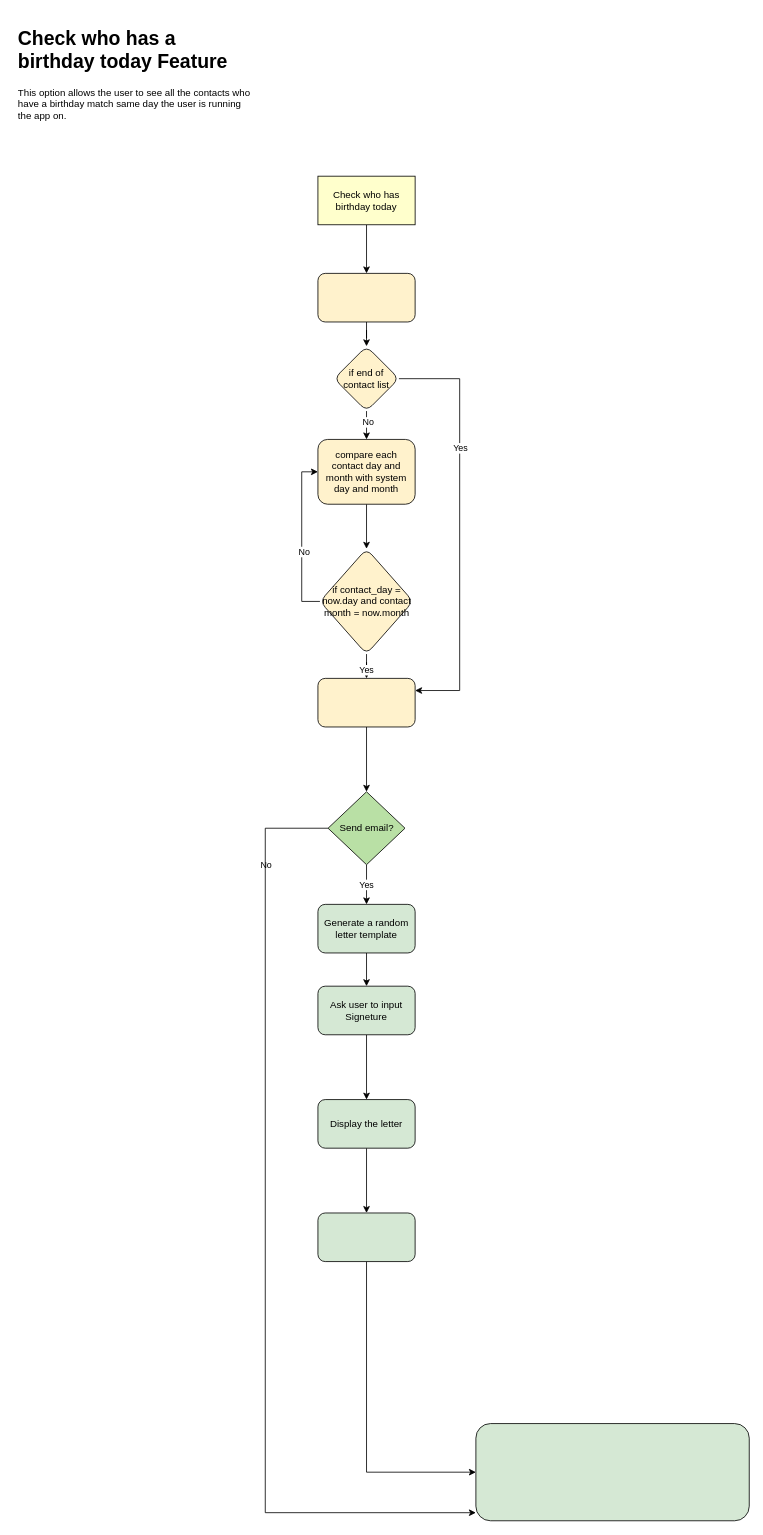
Some shapes in this 763 by 1535 pixel diagram are drawn without their labels. Here are the shapes that lost their labels. From the top down, the centre of each, then its label:
At point (366, 297): "system go through the list of contacts one by one".
At point (366, 702): "print out the contact to user".
At point (366, 1237): "Send letter".
At point (612, 1472): "Back to main menu".
